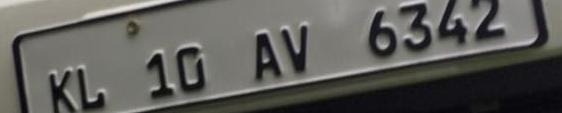0: (172, 43, 209, 91)
1: (141, 46, 177, 98)
2: (471, 0, 506, 40)
3: (399, 1, 431, 52)
4: (438, 0, 468, 45)
6: (365, 6, 399, 58)
A: (248, 26, 283, 80)
K: (41, 63, 77, 111)
L: (74, 63, 109, 108)
V: (278, 19, 315, 73)
